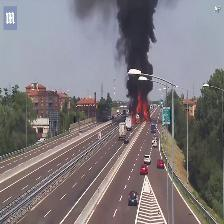fire: (132, 90, 152, 125)
